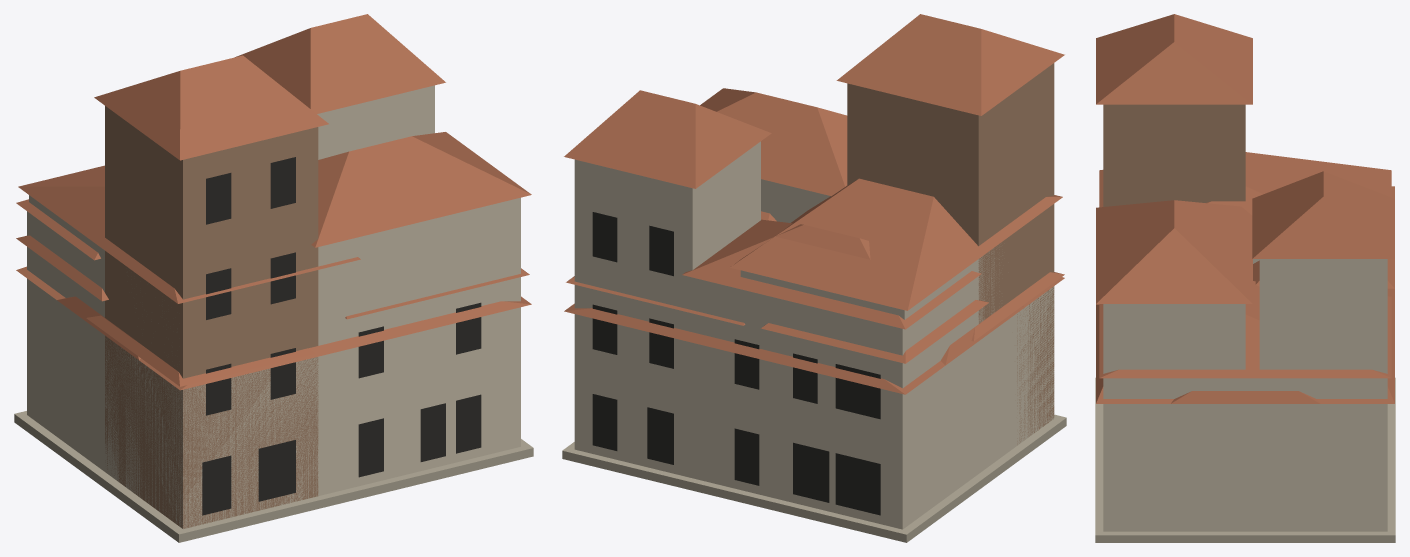
Rendered from housing-variants.glb.
3 views of the same model, side by side, from view 1: azimuth 30°, elevation 25°; view 2: azimuth 150°, elevation 25°; view 3: azimuth 270°, elevation 25° (orthographic). The views are drawn at different scales.
Parts seen in each view (by area): view 1: corner-brick-wing-0, corner-plaster-wing-1, courtyard-plaster-wing-1, corner-roof-1, corner-roof-0, stepped-roof-1, corner-plaster-wing-2, stepped-plaster-wing-2, stepped-plaster-wing-0, corner-plinth-stone, frontage-roof-0, stepped-plaster-wing-1 (+22 smaller); view 2: corner-brick-wing-0, stepped-plaster-wing-1, courtyard-plaster-wing-0, frontage-roof-0, corner-plaster-wing-2, stepped-plaster-wing-0, corner-roof-0, stepped-roof-1, courtyard-plaster-wing-2, corner-roof-1, corner-plinth-stone, stepped-roof-0 (+24 smaller); view 3: corner-plaster-wing-1, frontage-plaster-wing-1, stepped-plaster-wing-1, corner-roof-1, courtyard-plaster-wing-3, corner-brick-wing-0, corner-roof-0, stepped-roof-1, courtyard-plaster-wing-0, courtyard-plaster-wing-1, corner-plinth-stone, frontage-roof-1 (+5 smaller).
Part boxes in pixels (x1,y1,x2,y2): corner-brick-wing-0: (105, 106, 318, 528); corner-plaster-wing-1: (318, 197, 520, 495); courtyard-plaster-wing-1: (152, 307, 520, 528); corner-roof-1: (311, 132, 531, 247); corner-roof-0: (94, 55, 328, 160); stepped-roof-1: (235, 14, 445, 113); corner-plaster-wing-2: (27, 247, 104, 463); stepped-plaster-wing-2: (97, 330, 304, 527); stepped-plaster-wing-0: (27, 211, 97, 465); corner-plinth-stone: (14, 411, 533, 542); frontage-roof-0: (18, 165, 360, 303); stepped-plaster-wing-1: (317, 85, 434, 159); corner-brick-wing-0: (847, 63, 1054, 444); stepped-plaster-wing-1: (574, 141, 760, 477); courtyard-plaster-wing-0: (574, 317, 942, 528); frontage-roof-0: (730, 178, 1062, 310); corner-plaster-wing-2: (771, 311, 978, 529); stepped-plaster-wing-0: (692, 277, 970, 528); corner-roof-0: (836, 14, 1064, 115); stepped-roof-1: (564, 90, 771, 188); courtyard-plaster-wing-2: (942, 319, 1014, 499); corner-roof-1: (700, 88, 847, 196); corner-plinth-stone: (562, 414, 1066, 542); stepped-roof-0: (682, 219, 981, 329); corner-plaster-wing-1: (1103, 304, 1245, 531); frontage-plaster-wing-1: (1107, 378, 1383, 531); stepped-plaster-wing-1: (1259, 259, 1387, 531); corner-roof-1: (1096, 200, 1252, 303); courtyard-plaster-wing-3: (1178, 404, 1312, 531); corner-brick-wing-0: (1103, 104, 1245, 206); corner-roof-0: (1096, 14, 1252, 104); stepped-roof-1: (1252, 171, 1394, 258); courtyard-plaster-wing-0: (1313, 404, 1387, 531); courtyard-plaster-wing-1: (1103, 404, 1177, 531); corner-plinth-stone: (1095, 377, 1395, 542); frontage-roof-1: (1099, 281, 1391, 378).
Size of the model in its own units: 10.5 by 12.15 by 8.45.
